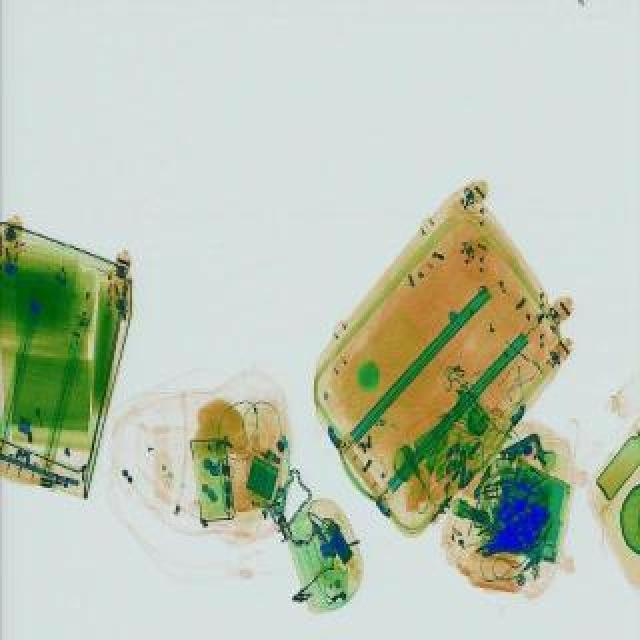wrench: (482, 464, 558, 522)
